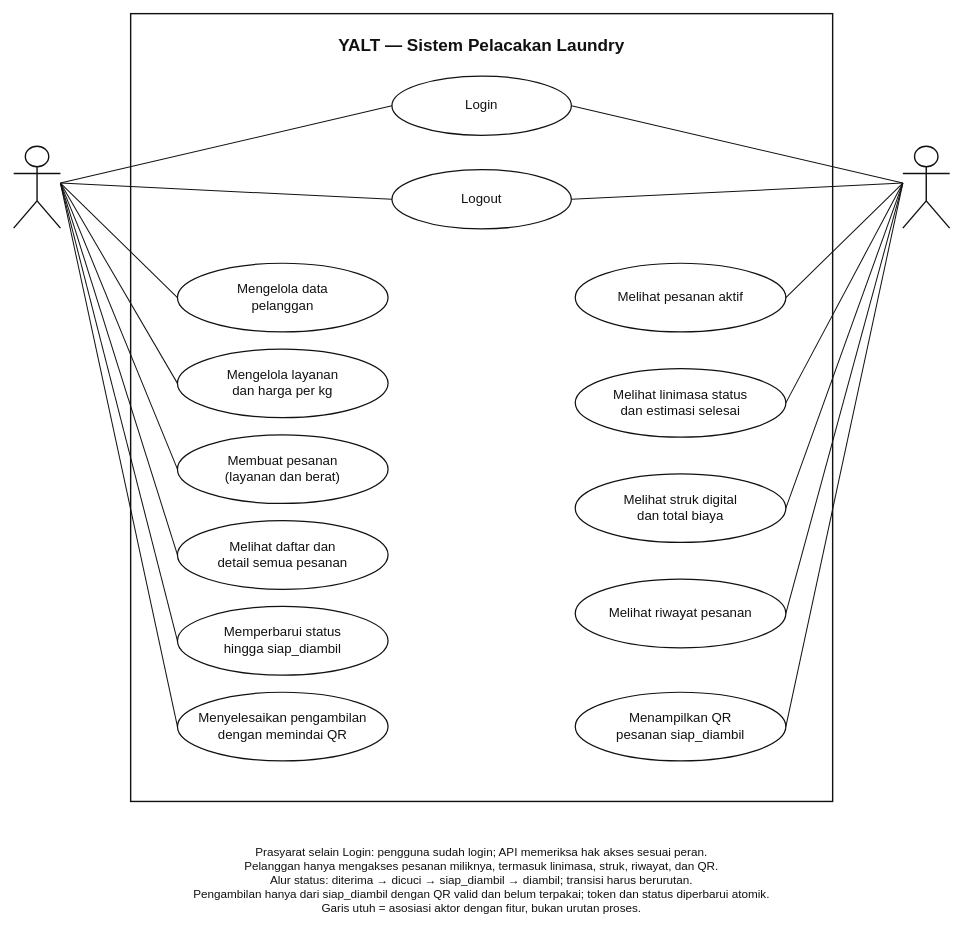
Some shapes in this 973 by 948 pixel diagram are drawn without their labels. Here are the shapes that lost their labels. From the top down, the box of each, then its label:
(13, 145, 61, 228): Admin
(902, 145, 950, 228): Pelanggan
